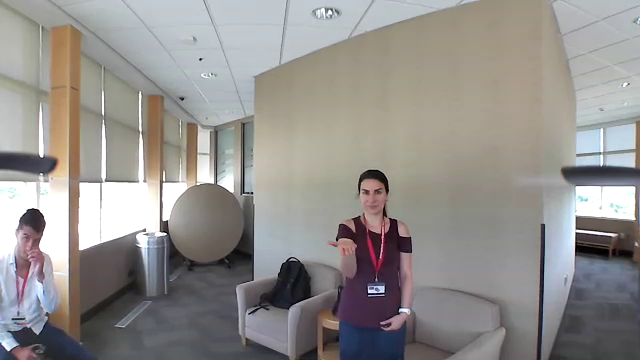land: (328, 235, 359, 255)
